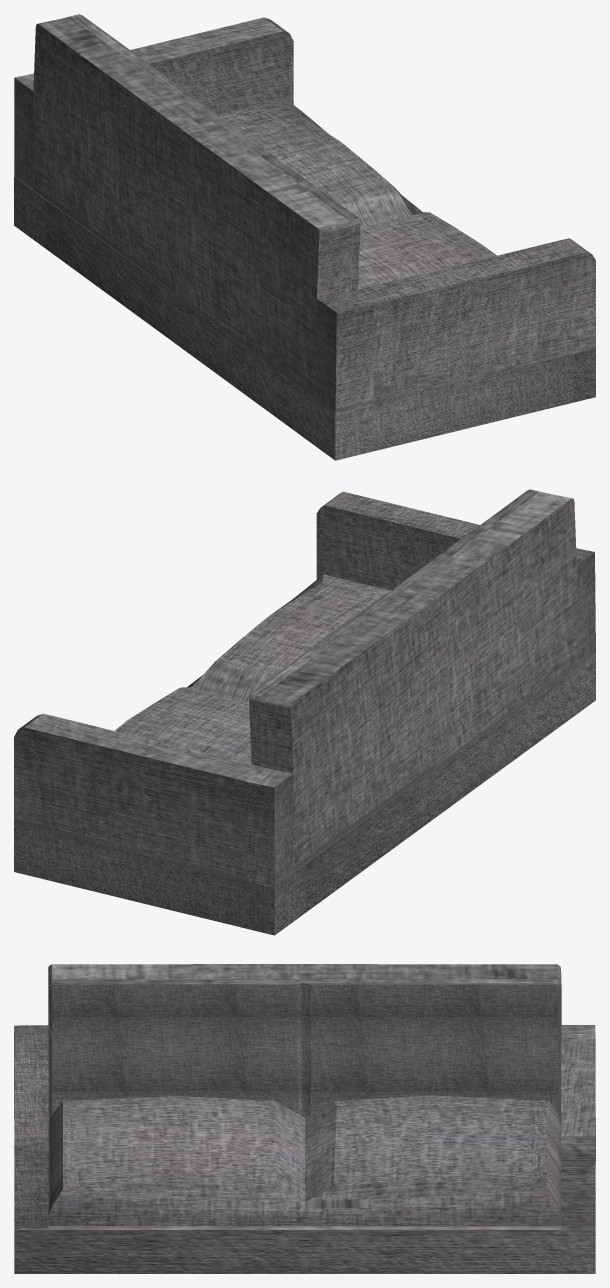
File: Sillon.fbx
3 views of the same model, one above another, from view 1: azimuth 30°, elevation 25°; view 2: azimuth 150°, elevation 25°; view 3: azimuth 270°, elevation 25° (orthographic). The views are drawn at different scales.
Parts seen in each view (by area): view 1: Cube; view 2: Cube; view 3: Cube.
Part boxes in pixels (bbox=[...]): Cube: bbox=[14, 14, 595, 460]; Cube: bbox=[14, 489, 595, 935]; Cube: bbox=[14, 964, 595, 1273].
Bounding box in the file's own units: 189 × 149 × 402.
1 material, 1 textured.
